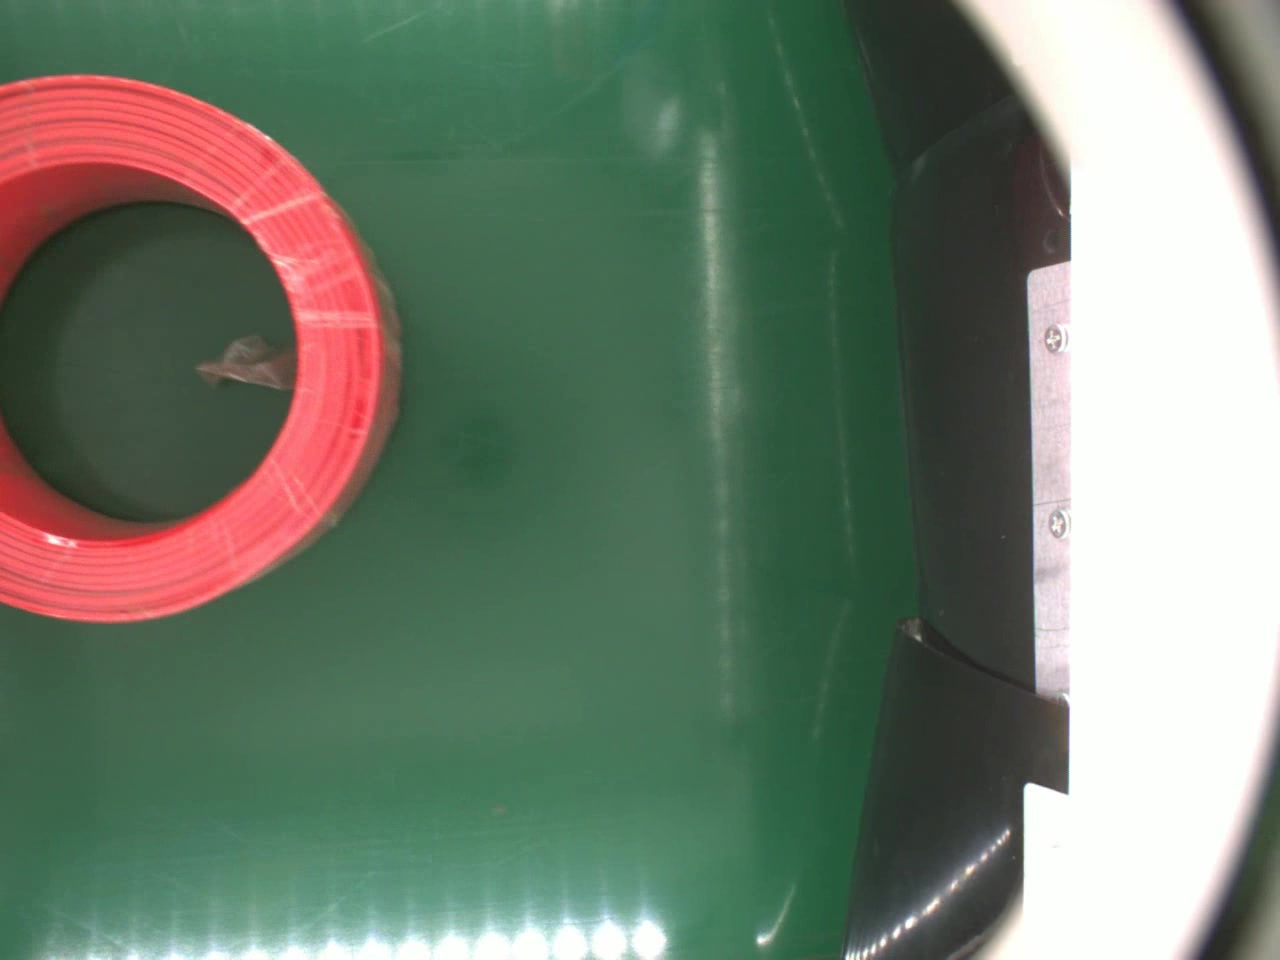red: (0, 70, 405, 628)
